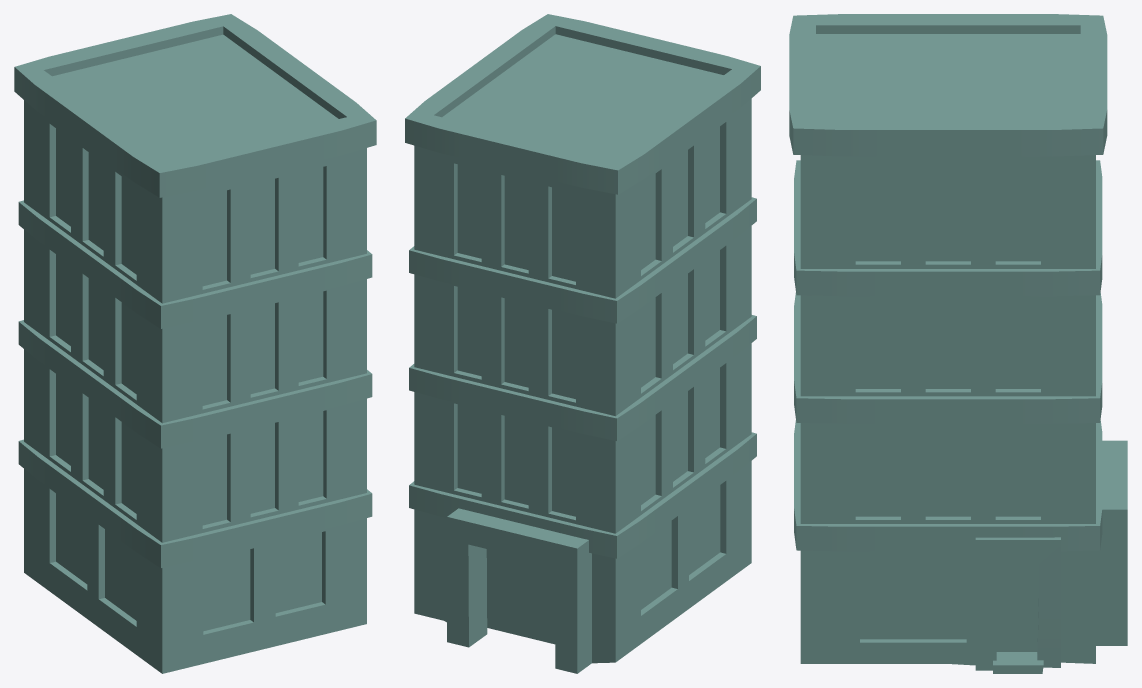
File: building 3.fbx
3 renders of one model, left to right at view 1: azimuth 30°, elevation 25°; view 2: azimuth 150°, elevation 25°; view 3: azimuth 270°, elevation 25°, orthographic. The views are drawn at different scales.
Visible parts, largest first — view 1: building 3; view 2: building 3; view 3: building 3.
Part boxes in pixels (bbox=[...]): building 3: bbox=[14, 14, 376, 673]; building 3: bbox=[405, 14, 760, 673]; building 3: bbox=[789, 14, 1127, 673].
Size of the model in its own units: 1347 by 2824 by 1586.
